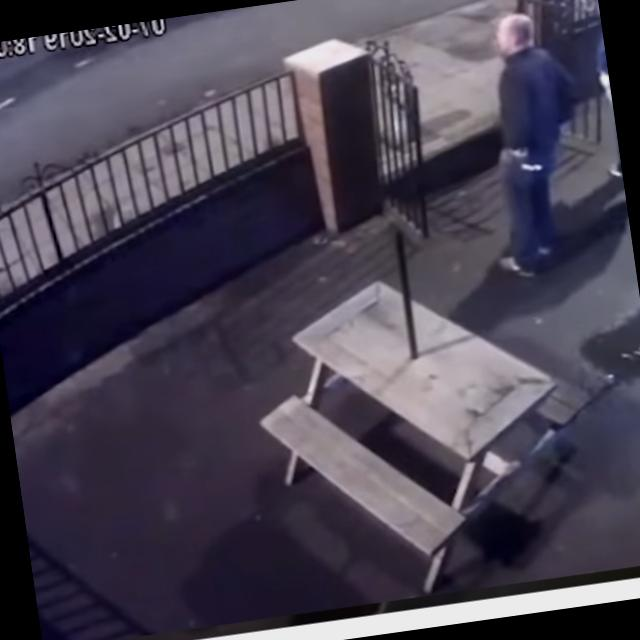person: (466, 7, 602, 282)
